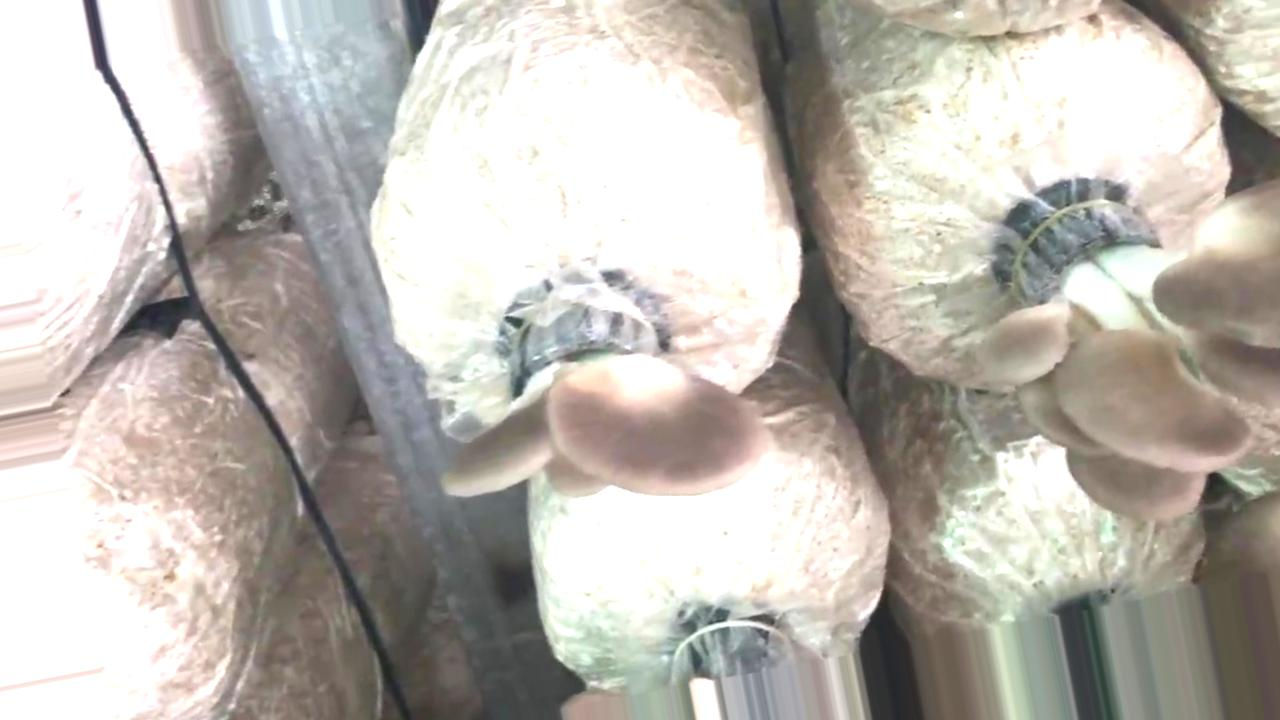nam: (977, 185, 1280, 520), (439, 289, 768, 502)
